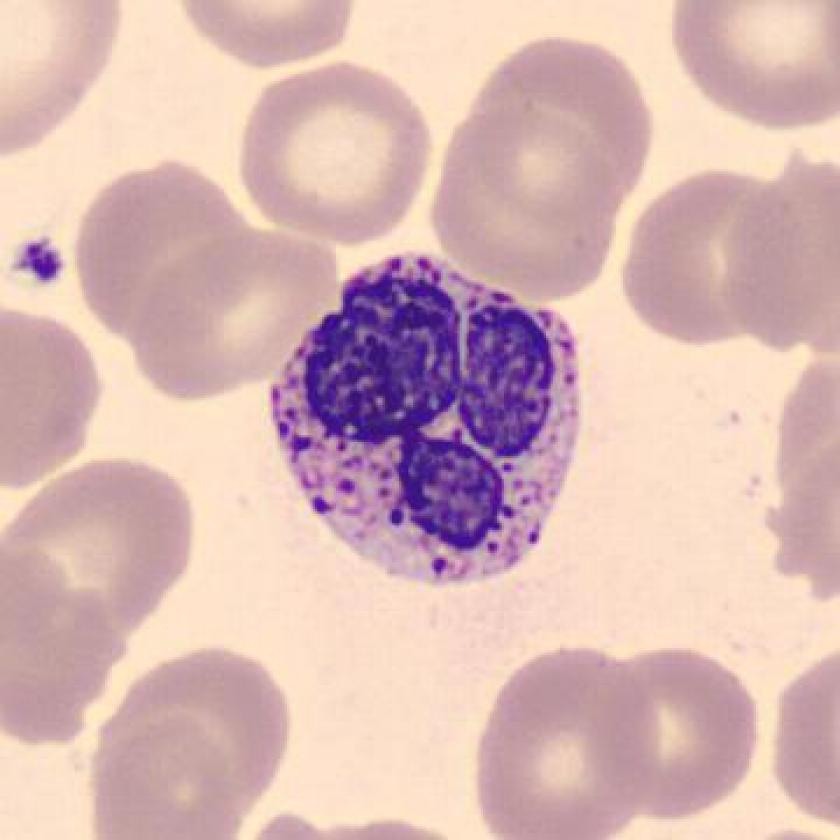basophil: (274, 256, 594, 596)
